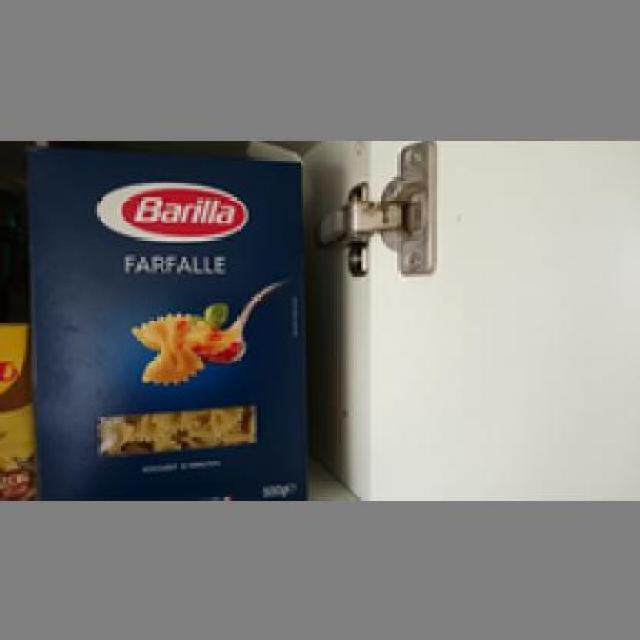Pasta: (26, 142, 303, 495)
